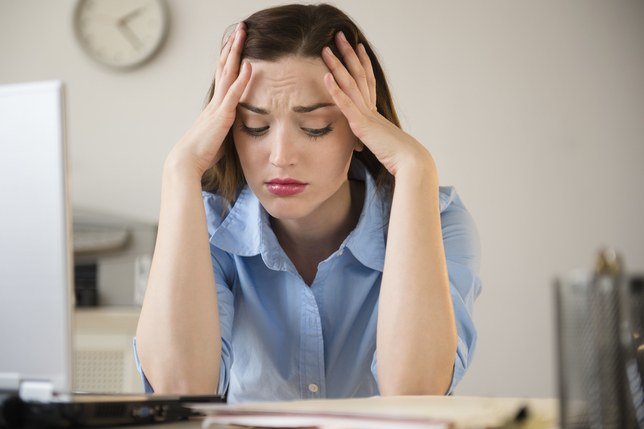sad: (225, 54, 358, 226)
